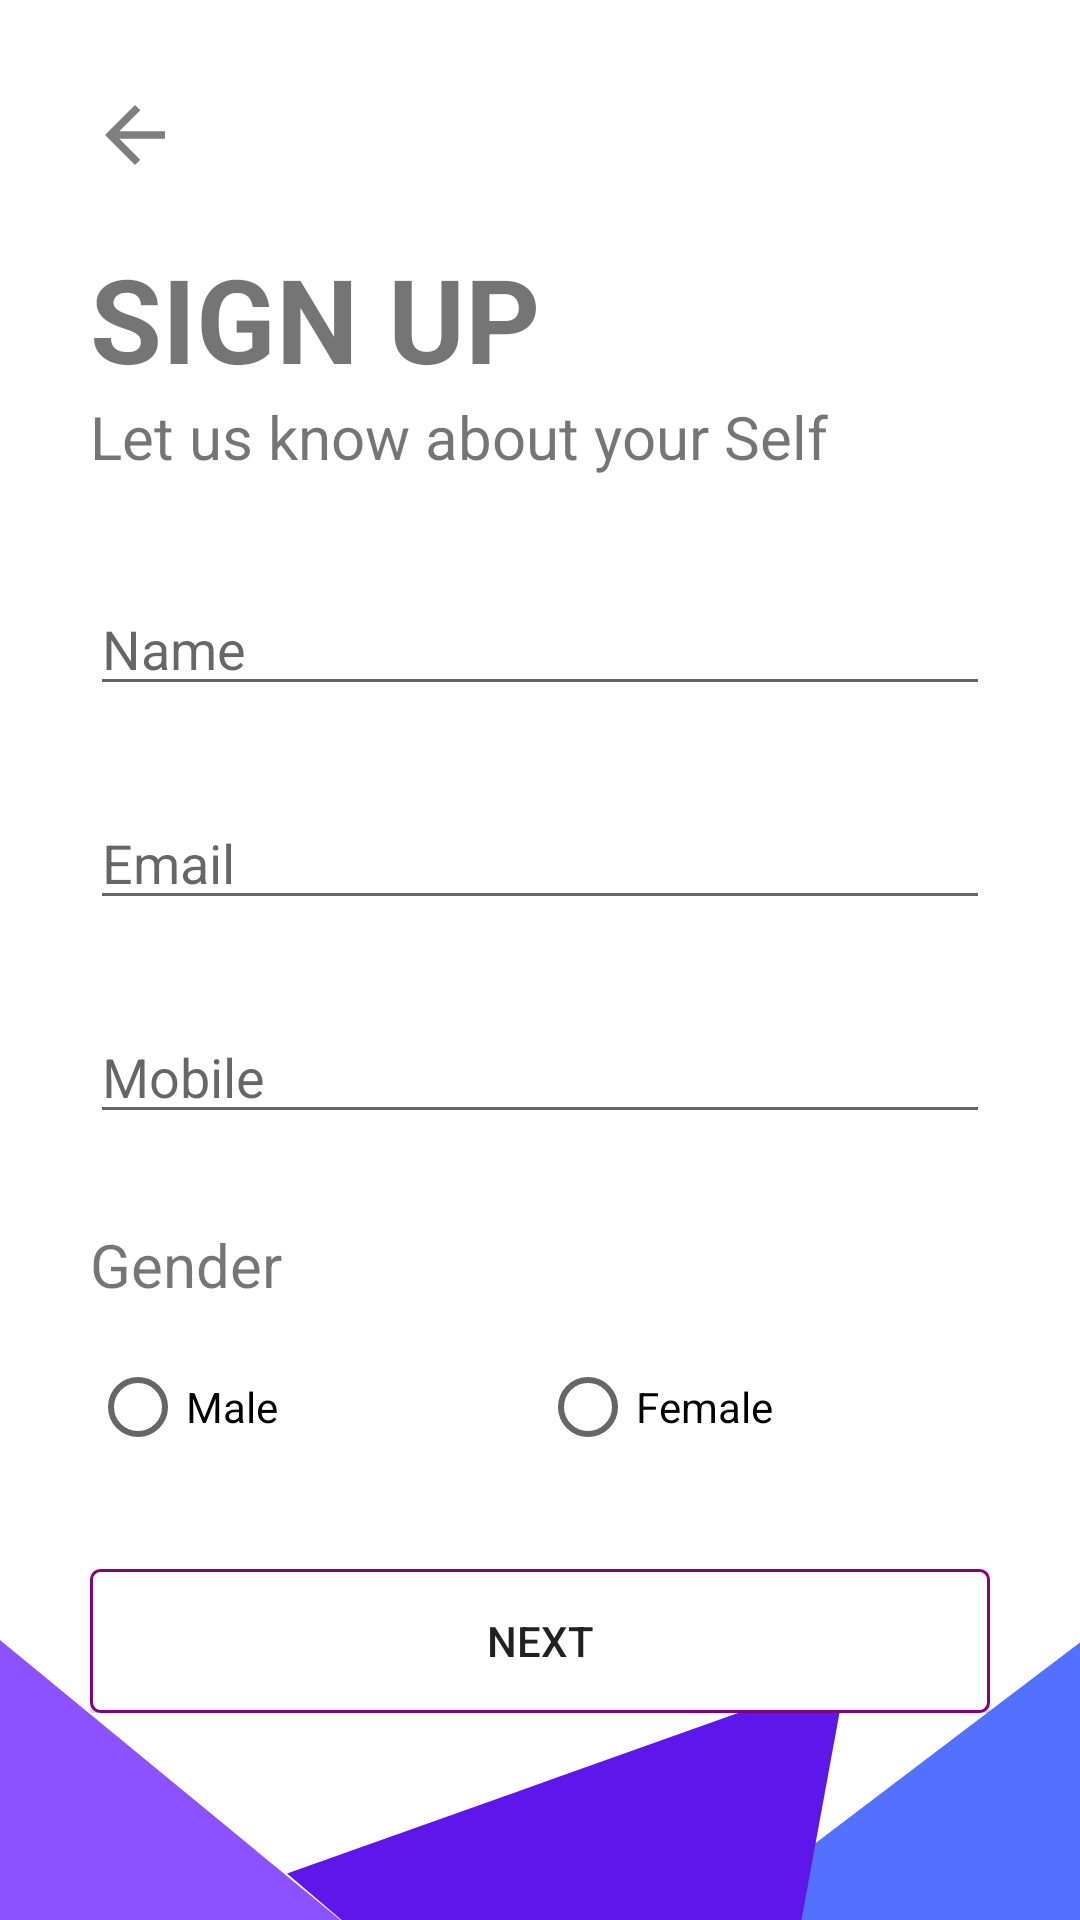

Icon click points for this 1080×1920 phone screenshot, format (x,y):
arrow back: (135,135)
